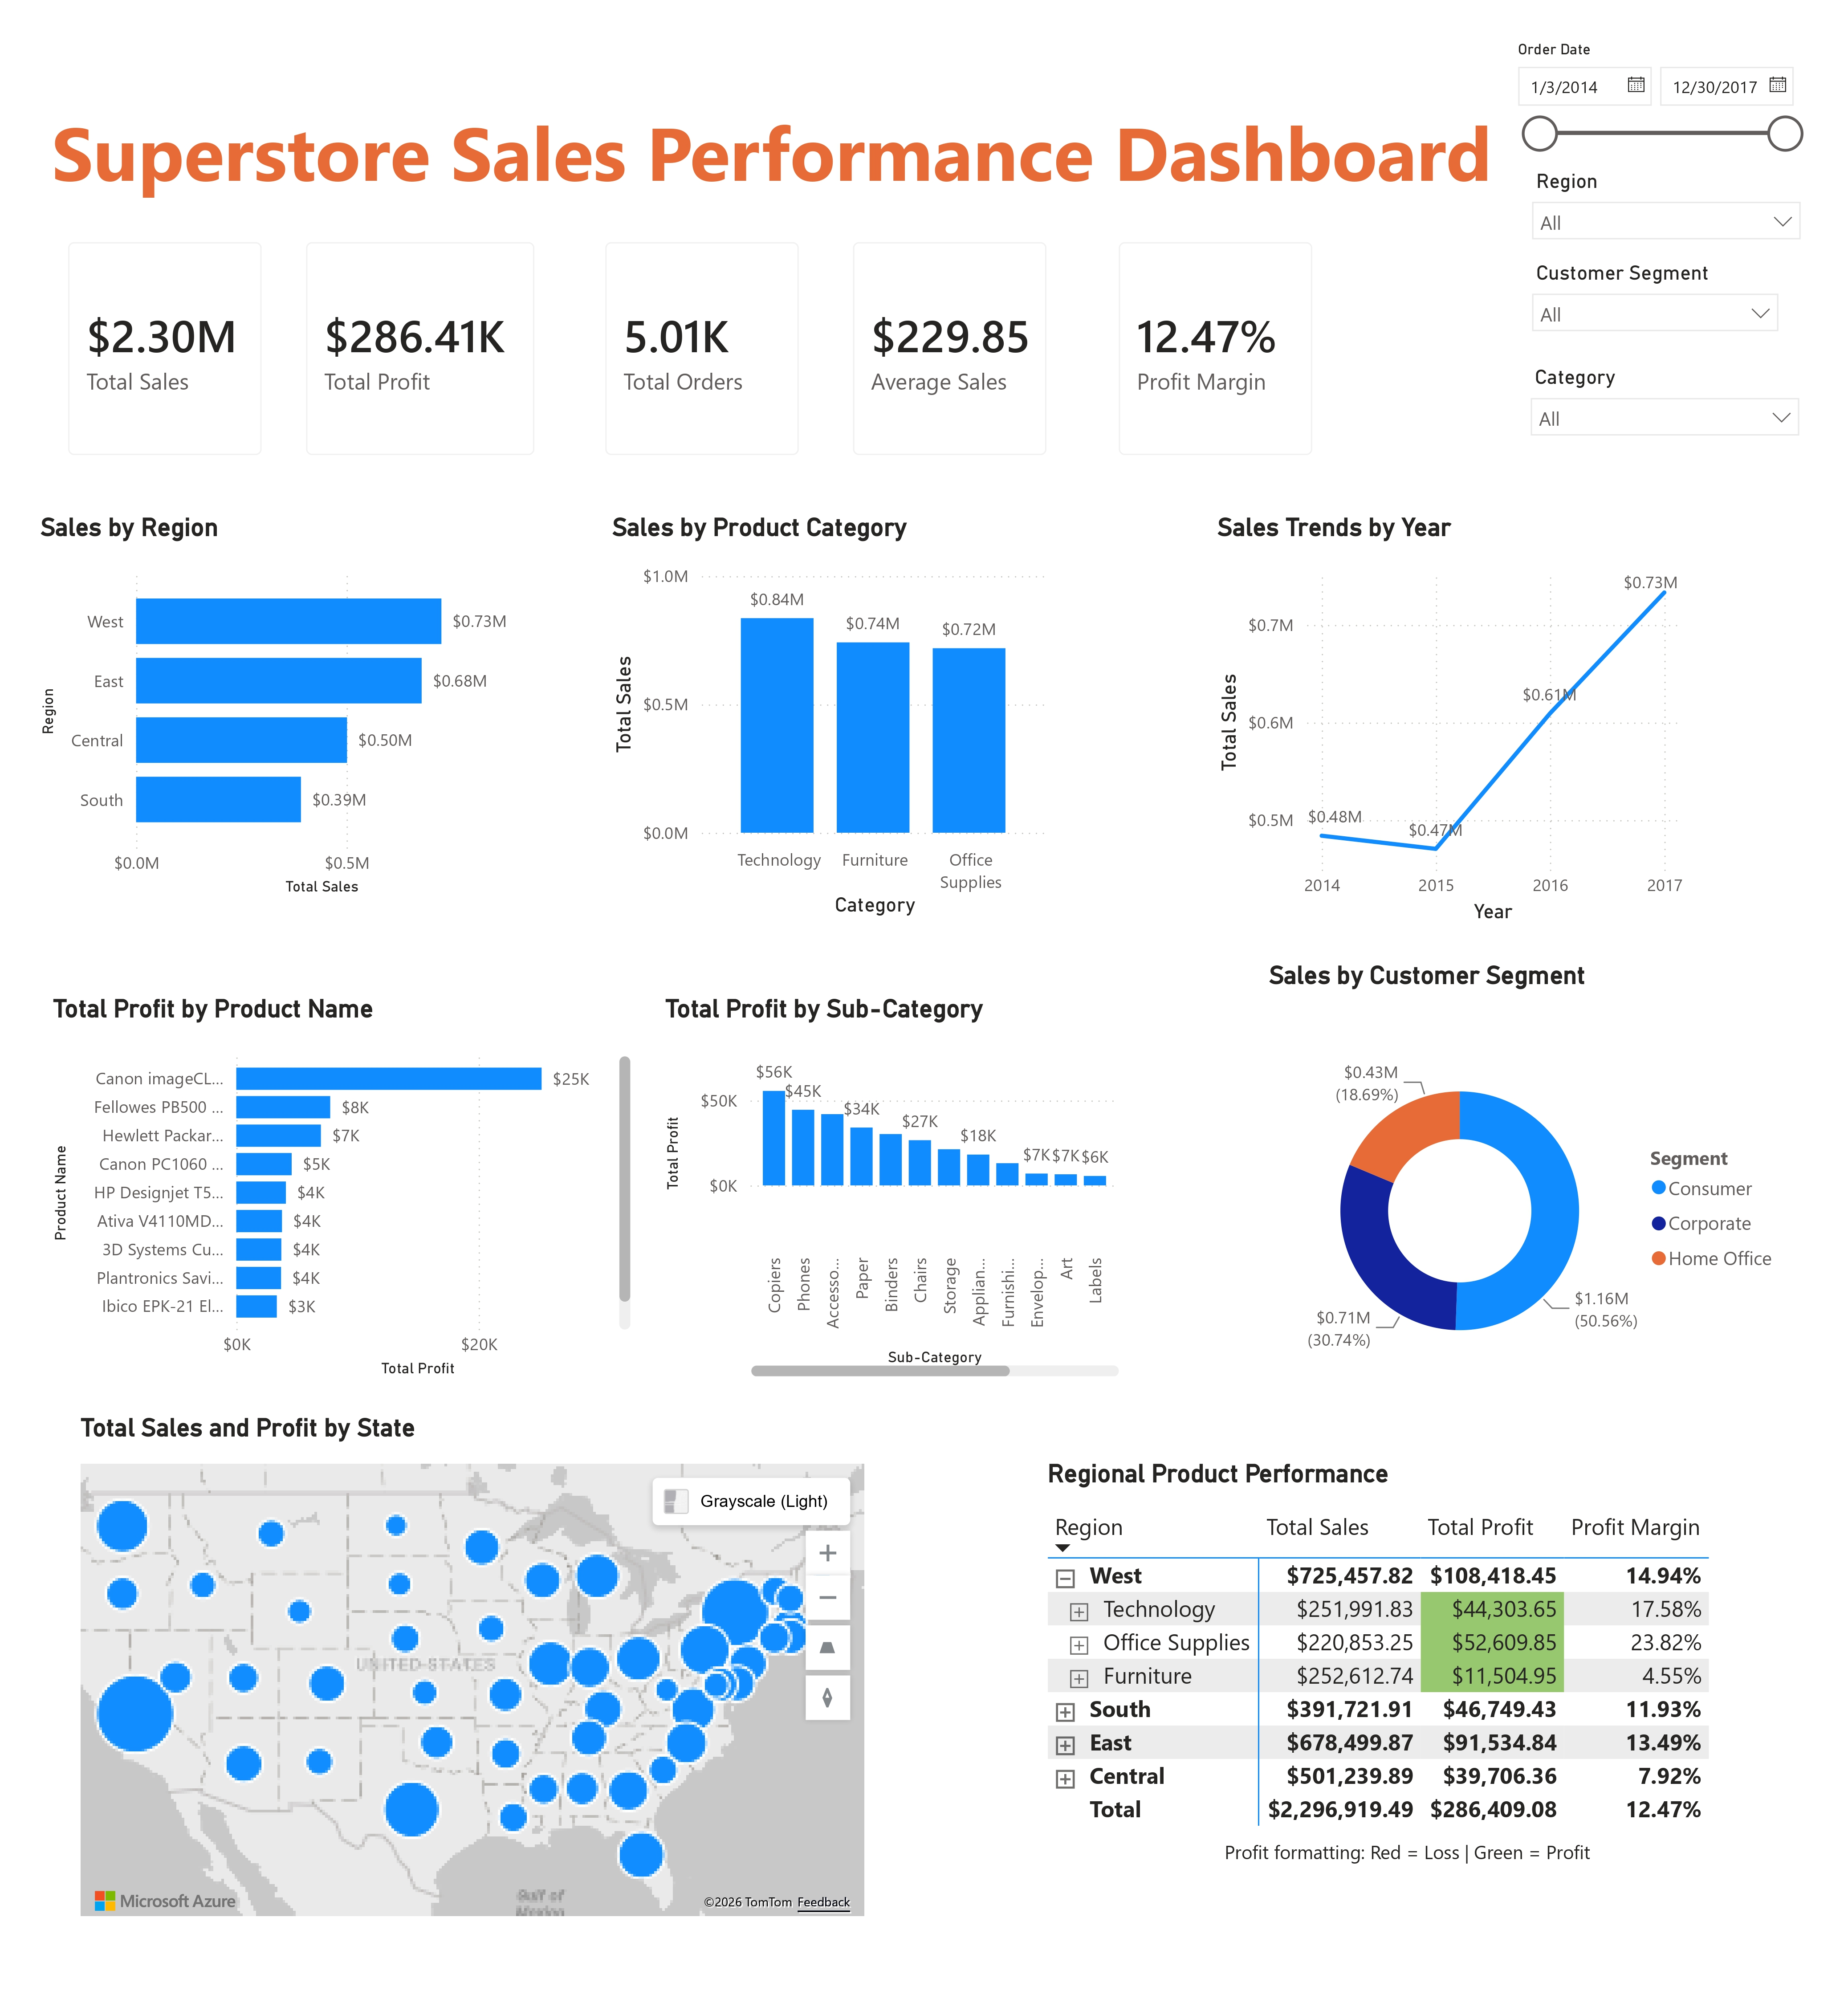

What the dashboard file says about the page in this screenshot:
{"tool":"powerbi","page":{"name":"Page 1","canvas":[1280,1400],"ordinal":0},"visuals":[{"type":"cardVisual","fields":{"Data":["Orders.Total Sales"]},"box":[8.3,133,173.2,187.1],"z":0},{"type":"cardVisual","fields":{"Data":["Orders.Total Profit"]},"box":[178.7,133,198.1,187.1],"z":1000},{"type":"cardVisual","fields":{"Data":["Orders.Total Orders"]},"box":[393.5,133,173,187],"z":2000},{"type":"cardVisual","fields":{"Data":["Orders.Average Sales"]},"box":[572.2,133,173,187],"z":3000},{"type":"cardVisual","fields":{"Data":["Orders.Profit Margin"]},"box":[763.5,133,173,187],"z":4000},{"type":"clusteredBarChart","title":"Sales by Region","fields":{"Category":["Orders.Region"],"Y":["Orders.Total Sales"]},"box":[0,344.3,362.9,280],"z":5000},{"type":"clusteredBarChart","fields":{"Category":["Orders.Product Name"],"Y":["Orders.Total Profit"]},"box":[8.6,690,425.4,279.9],"z":6000},{"type":"clusteredColumnChart","title":"Sales by Product Category","fields":{"Category":["Orders.Category"],"Y":["Orders.Total Sales"]},"box":[411.4,344.3,322.9,294.3],"z":7000},{"type":"clusteredColumnChart","fields":{"Category":["Orders.Sub-Category"],"Y":["Orders.Total Profit"]},"box":[448.6,690,336.2,279.9],"z":8000},{"type":"lineChart","title":"Sales Trends by Year","fields":{"Category":["Orders.Order Date.Variation.Date Hierarchy.Year"],"Y":["Orders.Total Sales"]},"box":[845.7,344.3,344.3,300],"z":9000},{"type":"donutChart","title":"Sales by Customer Segment","fields":{"Category":["Orders.Segment"],"Y":["Orders.Total Sales"]},"box":[882.9,665.7,381,328.4],"z":10000},{"type":"azureMap","title":"Total Sales and Profit by State","fields":{"Category":["Orders.State"],"Size":["Orders.Total Sales"]},"box":[28.6,991.4,572.9,367.1],"z":11000},{"type":"pivotTable","title":"Regional Product Performance","fields":{"Rows":["Orders.Region","Orders.Category","Orders.Sub-Category"],"Values":["Orders.Total Sales","Orders.Total Profit","Orders.Profit Margin"]},"box":[724.3,1024.3,554.3,302.9],"z":12000},{"type":"slicer","fields":{"Values":["Orders.Region"]},"box":[1067.1,92.9,212.9,81.4],"z":13000},{"type":"slicer","fields":{"Values":["Orders.Segment"]},"box":[1067.1,158.6,197.1,55.7],"z":14000},{"type":"slicer","fields":{"Values":["Orders.Category"]},"box":[1065.7,234.3,212.9,58.6],"z":15000},{"type":"slicer","fields":{"Values":["Orders.Order Date"]},"box":[1054.3,0,225.7,90],"z":16000},{"type":"textbox","box":[851.4,1292.9,300,44.3],"z":17000},{"type":"textbox","box":[8.3,43,1054.4,90.1],"z":18000}]}

Visuals, with their boxes on the page's 1280x1400 design canvas (x1, y1, x2, y2). These are canvas units, not pixel positions in the 1848x2015 screenshot, which may show the page scaled, cropped or inside an application window:
cardVisual - Orders.Total Sales: bbox(8, 133, 182, 320)
cardVisual - Orders.Total Profit: bbox(179, 133, 377, 320)
cardVisual - Orders.Total Orders: bbox(394, 133, 566, 320)
cardVisual - Orders.Average Sales: bbox(572, 133, 745, 320)
cardVisual - Orders.Profit Margin: bbox(764, 133, 936, 320)
"Sales by Region" clusteredBarChart: bbox(0, 344, 363, 624)
clusteredBarChart - Orders.Product Name x Orders.Total Profit: bbox(9, 690, 434, 970)
"Sales by Product Category" clusteredColumnChart: bbox(411, 344, 734, 639)
clusteredColumnChart - Orders.Sub-Category x Orders.Total Profit: bbox(449, 690, 785, 970)
"Sales Trends by Year" lineChart: bbox(846, 344, 1190, 644)
"Sales by Customer Segment" donutChart: bbox(883, 666, 1264, 994)
"Total Sales and Profit by State" azureMap: bbox(29, 991, 602, 1358)
"Regional Product Performance" pivotTable: bbox(724, 1024, 1279, 1327)
slicer - Orders.Region: bbox(1067, 93, 1280, 174)
slicer - Orders.Segment: bbox(1067, 159, 1264, 214)
slicer - Orders.Category: bbox(1066, 234, 1279, 293)
slicer - Orders.Order Date: bbox(1054, 0, 1280, 90)
textbox: bbox(851, 1293, 1151, 1337)
textbox: bbox(8, 43, 1063, 133)
